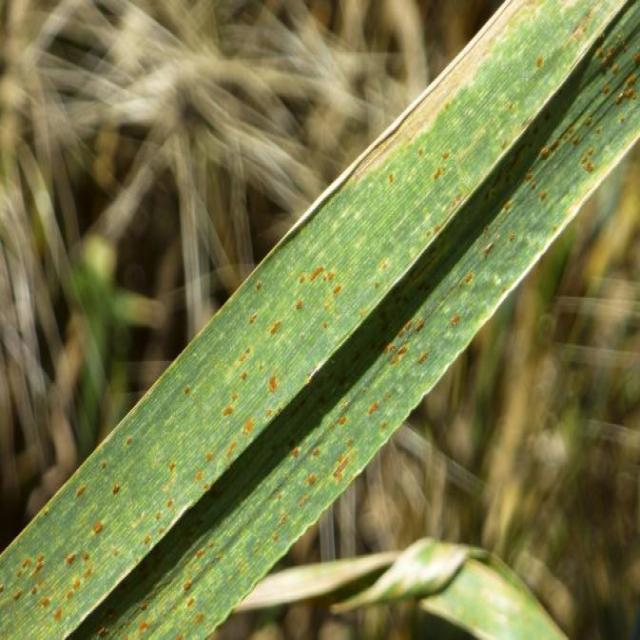leaf rust: (1, 204, 429, 637)
